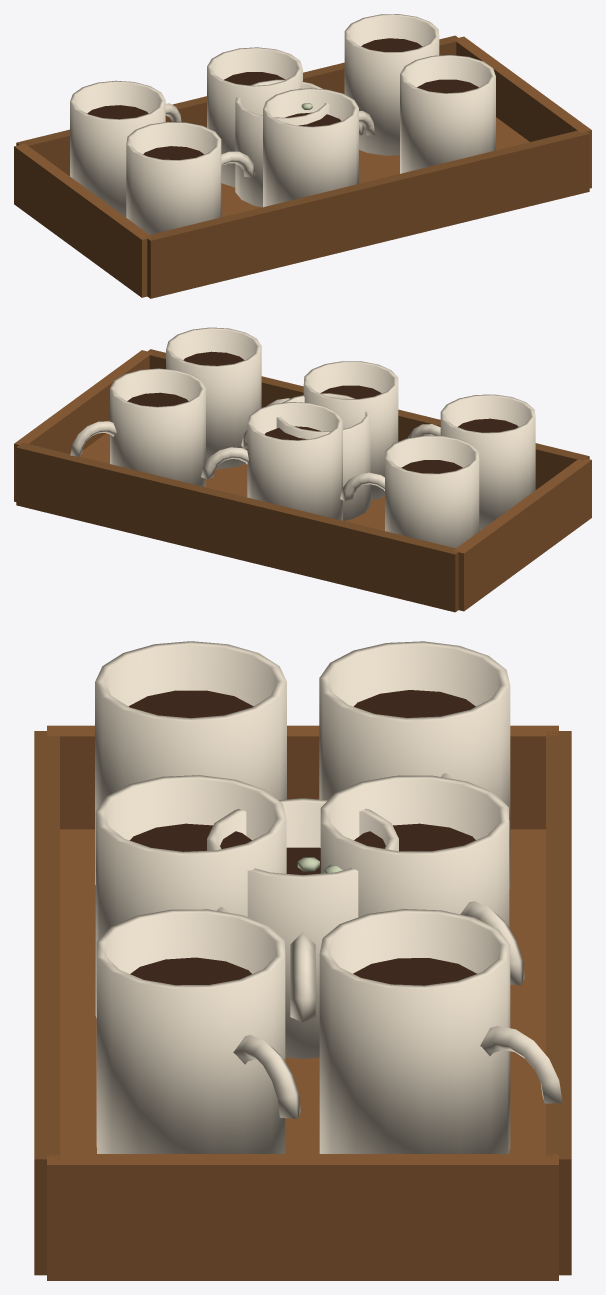
File: Drink_Coffee.fbx
The picture shows the model from 3 angles, top to bottom: view 1: azimuth 30°, elevation 25°; view 2: azimuth 150°, elevation 25°; view 3: azimuth 270°, elevation 25°; orthographic projection. The views are drawn at different scales.
Visible parts, largest first — view 1: Drink_Coffee__Stack, Drink_Coffee; view 2: Drink_Coffee__Stack, Drink_Coffee; view 3: Drink_Coffee__Stack, Drink_Coffee.
Boxes of the visible parts, left/top/right/bottom form: Drink_Coffee__Stack: left=14, top=14, right=591, bottom=298; Drink_Coffee: left=235, top=79, right=364, bottom=207; Drink_Coffee__Stack: left=14, top=327, right=591, bottom=612; Drink_Coffee: left=241, top=393, right=370, bottom=520; Drink_Coffee__Stack: left=34, top=641, right=571, bottom=1280; Drink_Coffee: left=207, top=798, right=398, bottom=1058.
Size of the model in its own units: 0.325 by 0.078 by 0.168.
